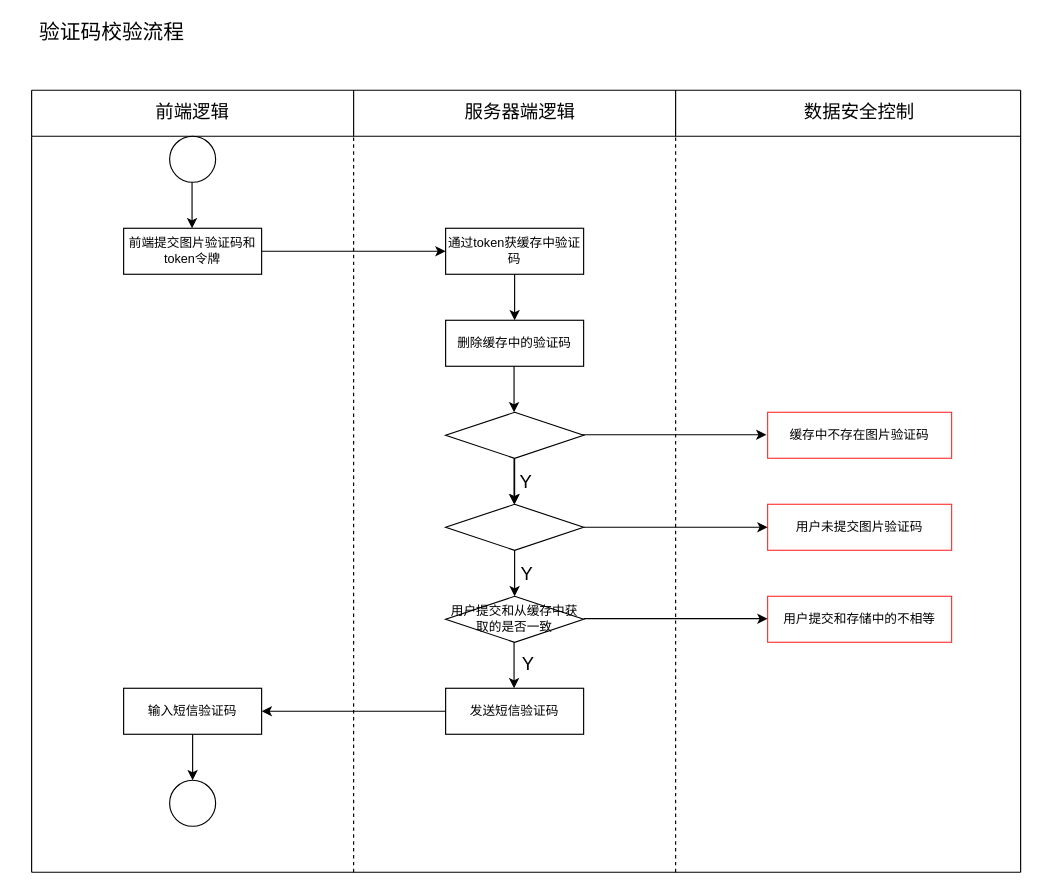
Some shapes in this 1042 by 894 pixel diagram are drawn without their labels. The shapes that lost their labels are listed below. From the top down, each one's centre as x and y in pixels, then its label:
At point 192,158: "start".
At point 514,434: "缓存中是否存在验证码".
At point 514,526: "用户提交的验证码是否存在".
At point 192,802: "end".
